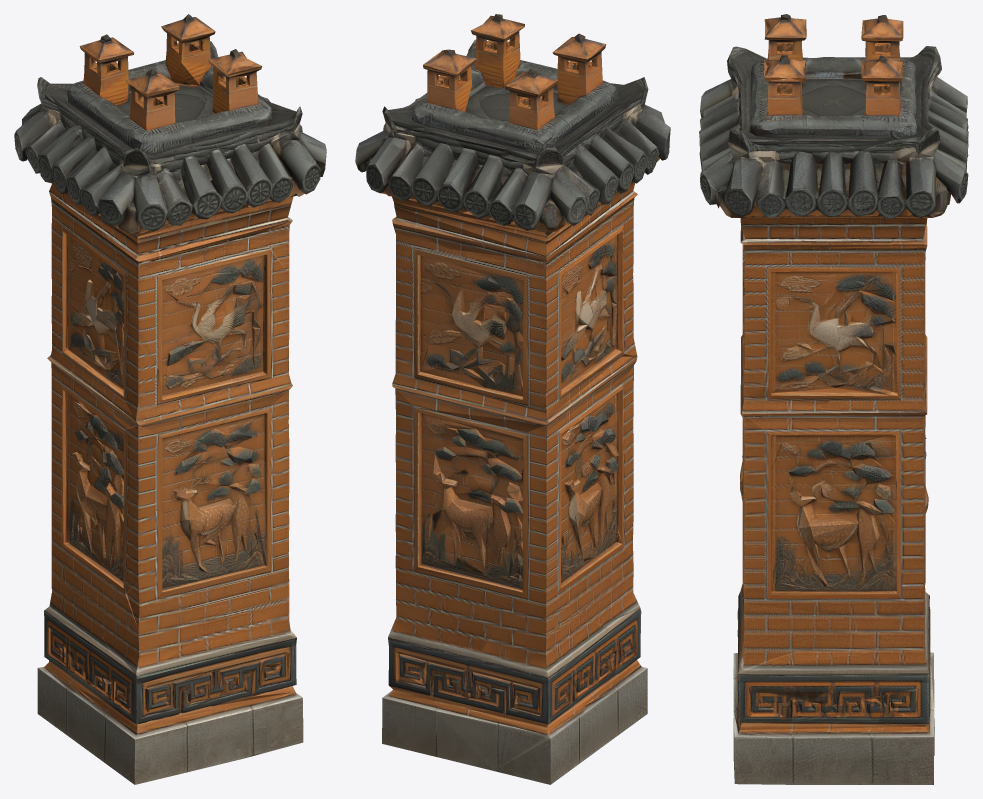
The model's file is chimney.glb.
The picture shows the model from 3 angles, left to right: view 1: azimuth 30°, elevation 25°; view 2: azimuth 150°, elevation 25°; view 3: azimuth 270°, elevation 25°; orthographic projection. The views are drawn at different scales.
Bounding box in the file's own units: 0.6528 × 1.9 × 0.6554.
1 material, 1 textured.
